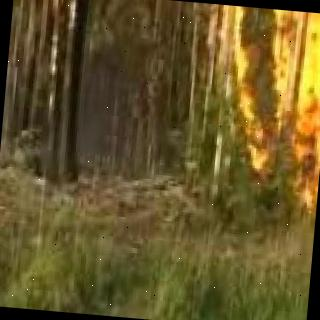fire: (195, 4, 320, 193), (35, 0, 100, 79), (310, 202, 317, 250)
